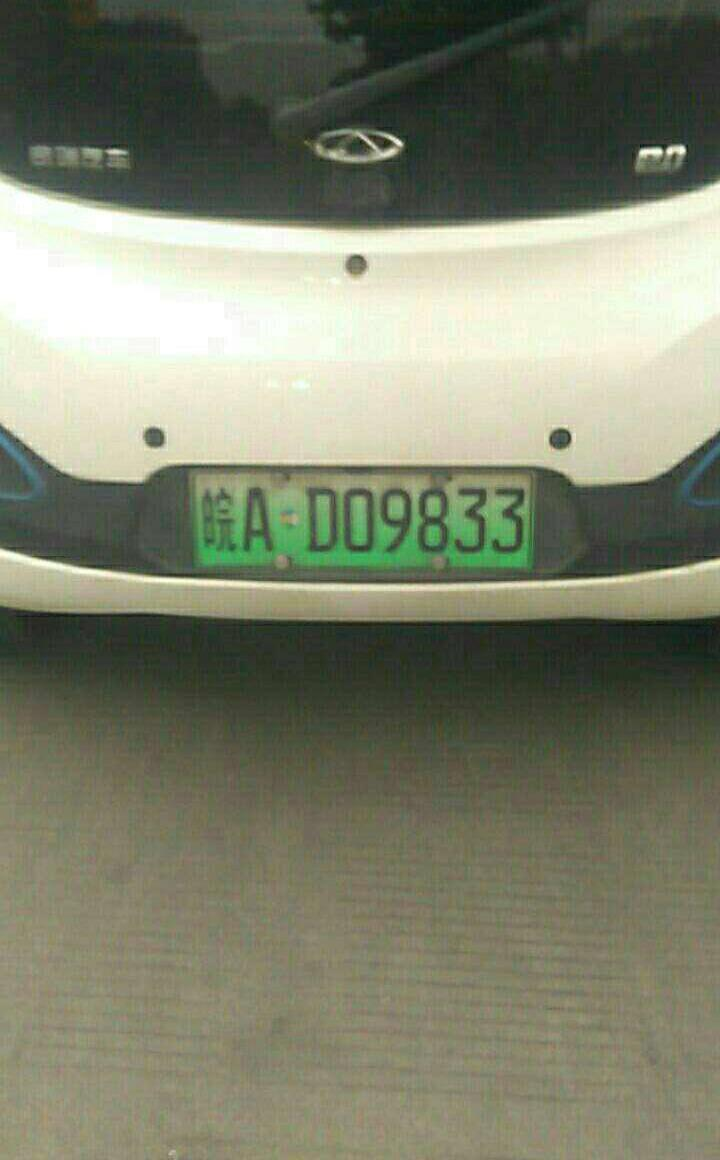car_id: (191, 468, 533, 566)
